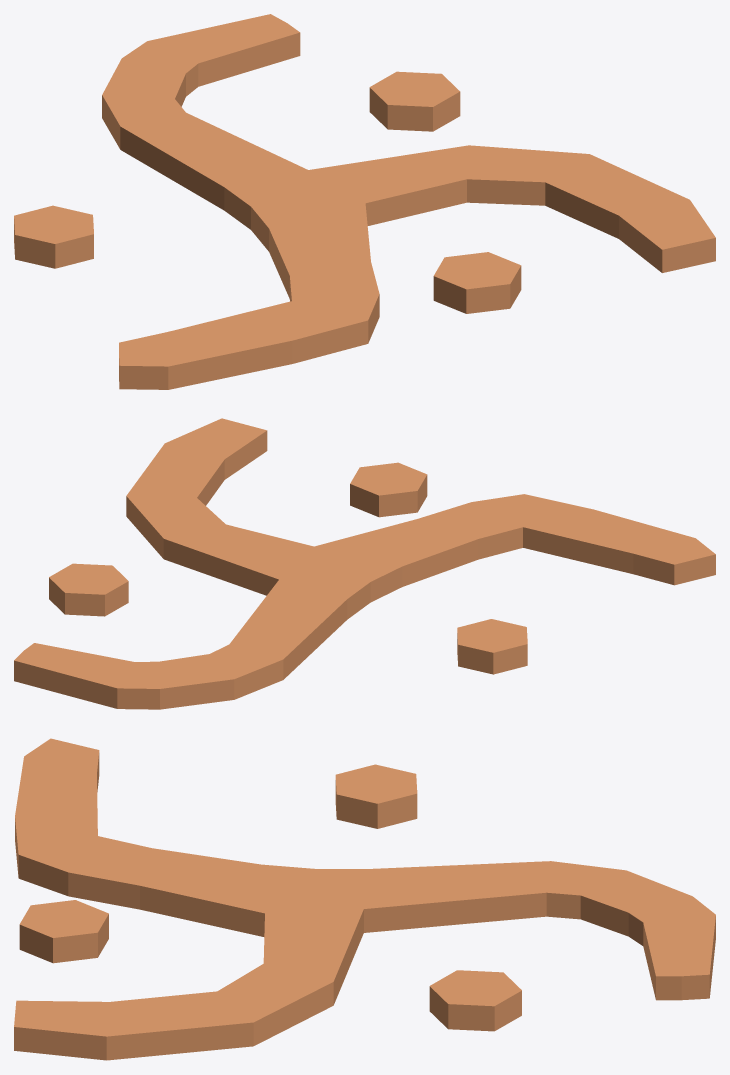
The model's file is RELIGOUS SYMBOL.fbx.
The picture shows the model from 3 angles, top to bottom: view 1: azimuth 30°, elevation 25°; view 2: azimuth 150°, elevation 25°; view 3: azimuth 270°, elevation 25°; orthographic projection. The views are drawn at different scales.
Parts seen in each view (by area): view 1: Plane; view 2: Plane; view 3: Plane.
Part boxes in pixels (bbox=[...]): Plane: bbox=[14, 14, 715, 389]; Plane: bbox=[14, 418, 715, 709]; Plane: bbox=[14, 738, 715, 1060].
Bounding box in the file's own units: 686 × 27.02 × 683.
